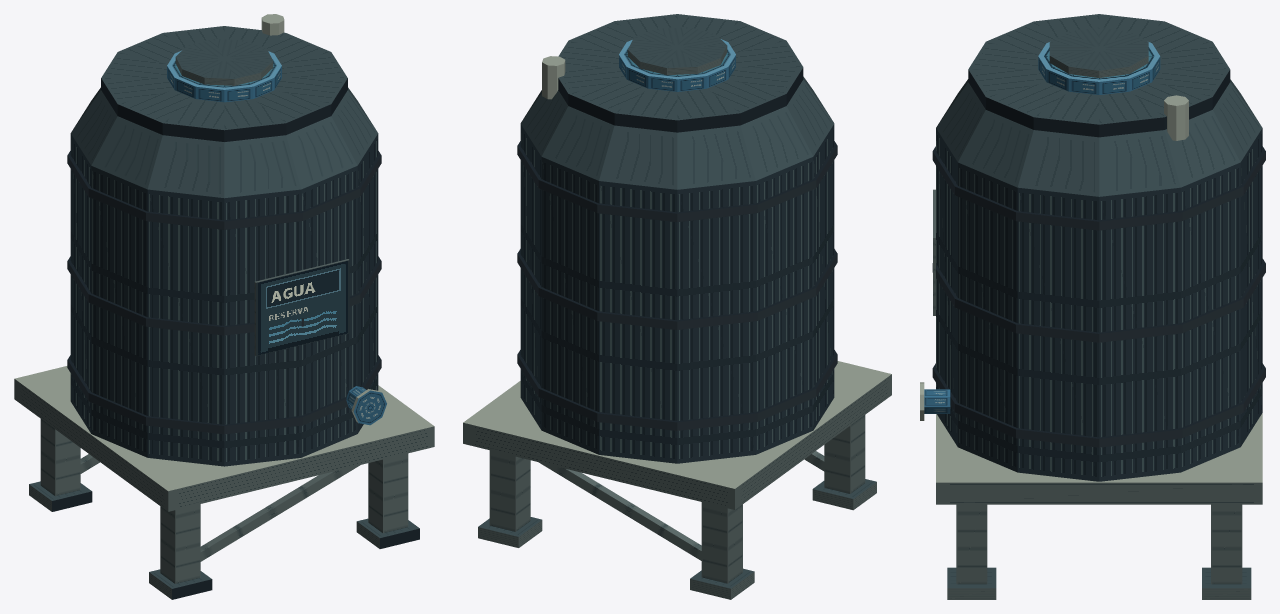
File: tinaco_elevado.glb
The picture shows the model from 3 angles, left to right: view 1: azimuth 30°, elevation 25°; view 2: azimuth 150°, elevation 25°; view 3: azimuth 270°, elevation 25°; orthographic projection. The views are drawn at different scales.
Parts seen in each view (by area): view 1: tinaco_elevado; view 2: tinaco_elevado; view 3: tinaco_elevado.
Boxes of the visible parts, <box> form: tinaco_elevado: <box>14,14,434,599</box>; tinaco_elevado: <box>463,14,891,599</box>; tinaco_elevado: <box>920,14,1265,599</box>.
Size of the model in its own units: 1.13 by 1.83 by 1.18.
Materials: 1 (1 with a texture image).
